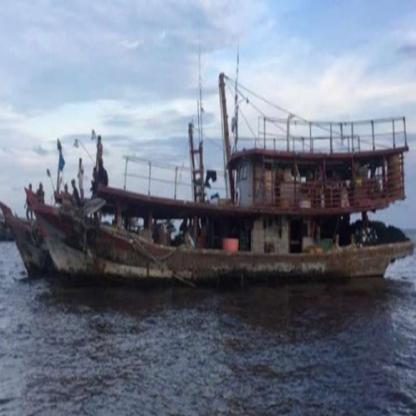fishing boat: (38, 196, 406, 285)
